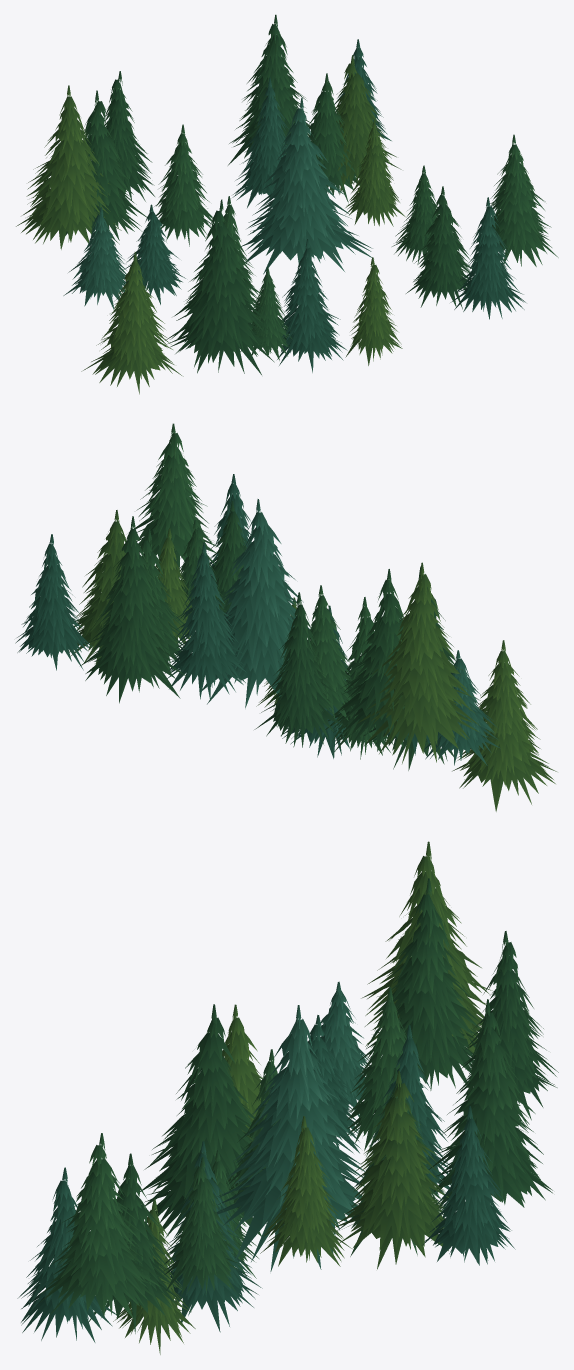
The model's file is pine_6.glb.
3 views of the same model, one above another, from view 1: azimuth 30°, elevation 25°; view 2: azimuth 150°, elevation 25°; view 3: azimuth 270°, elevation 25° (orthographic). The views are drawn at different scales.
Visible parts, largest first — view 1: pine_6; view 2: pine_6; view 3: pine_6.
Boxes of the visible parts, x1,y1,x2,y2 form: pine_6: [16, 14, 558, 394]; pine_6: [15, 423, 556, 811]; pine_6: [17, 841, 558, 1354].
Size of the model in its own units: 37.9 by 22.21 by 30.88.
Materials: 1 (1 with a texture image).
